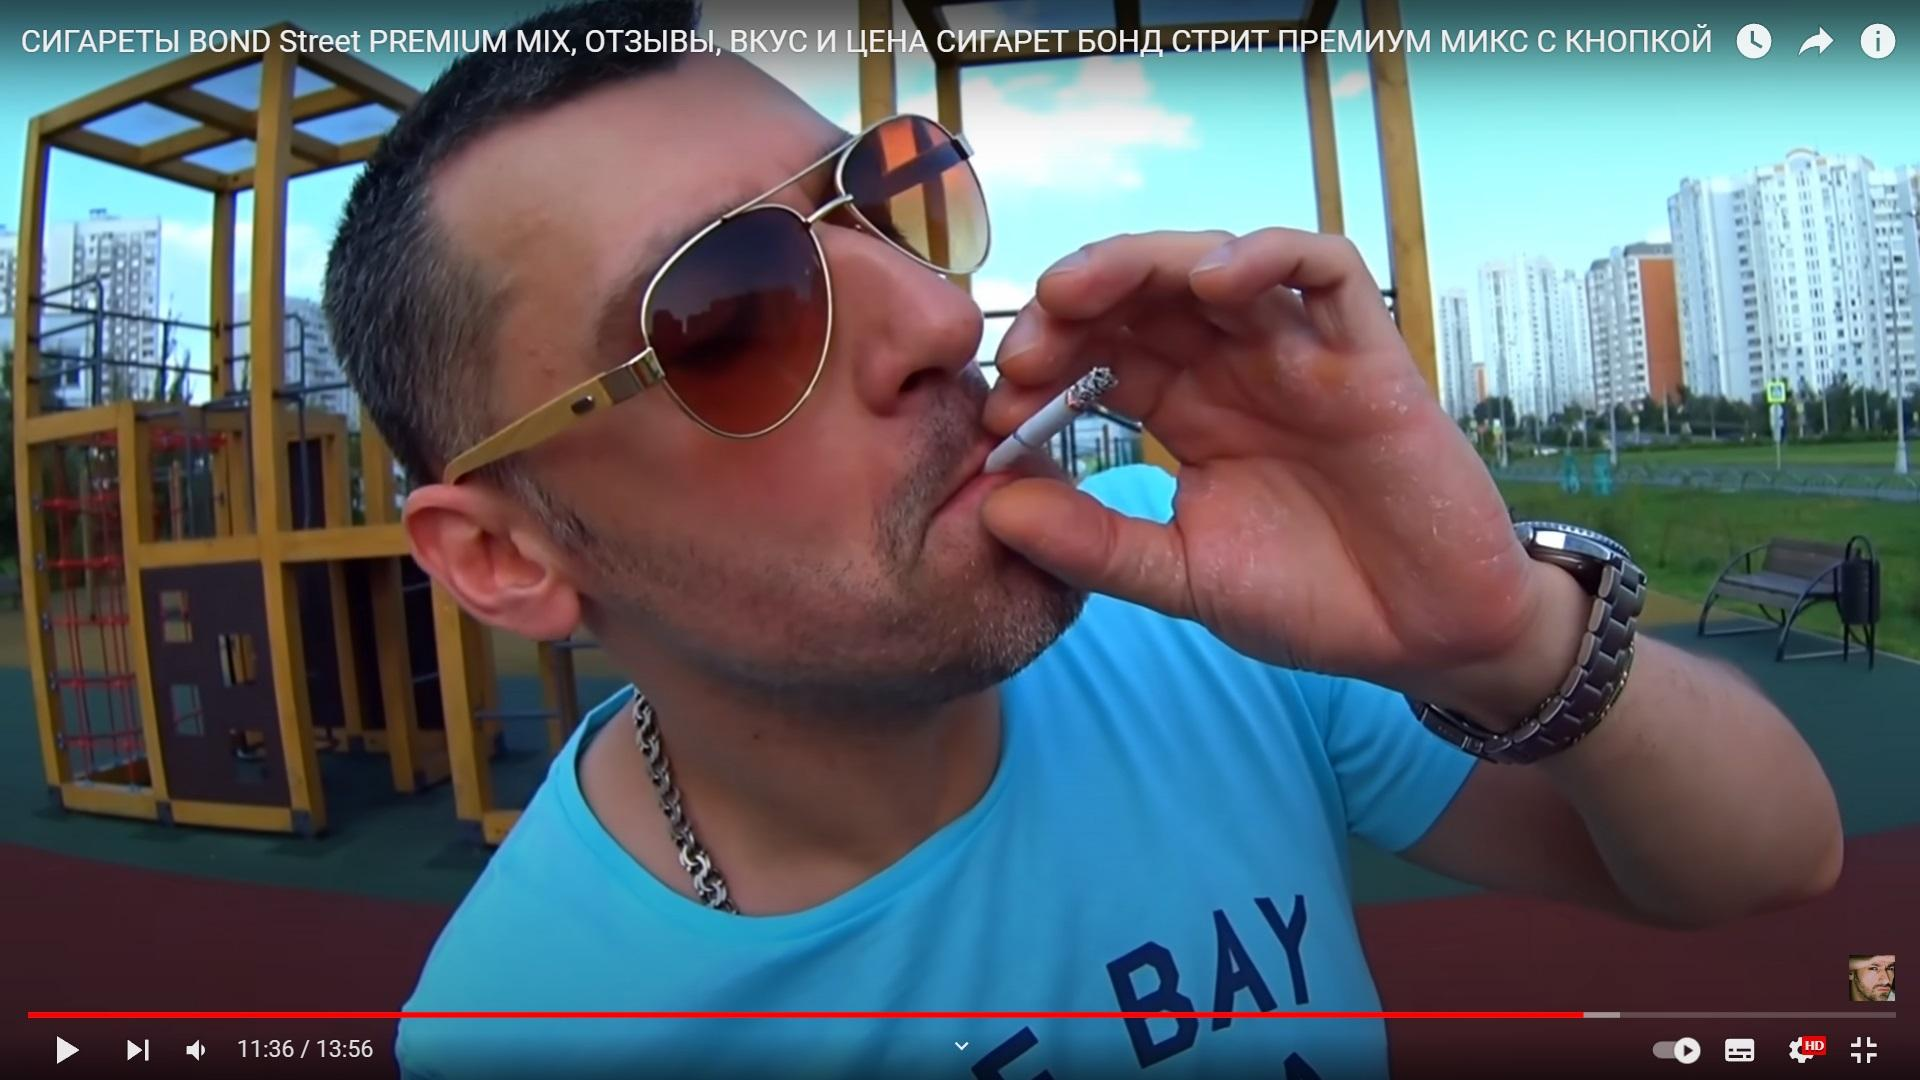cigarette: (981, 365, 1120, 476)
